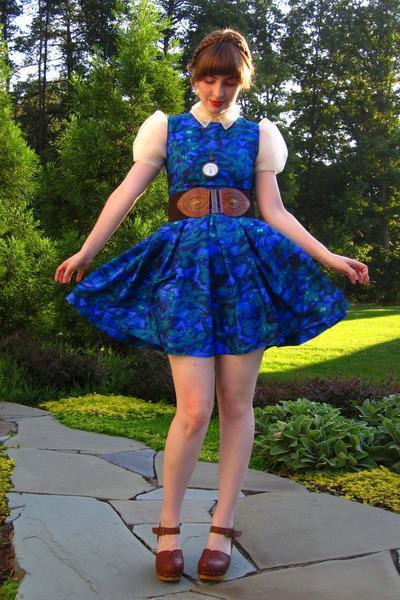dress: (64, 107, 347, 357)
